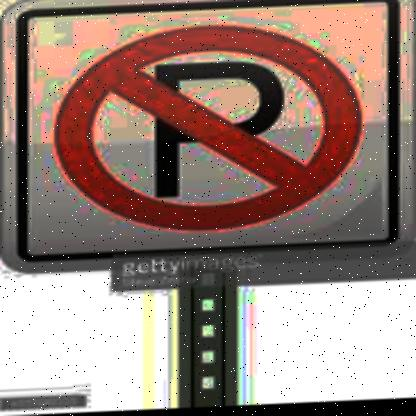No parking: (59, 23, 353, 237)
